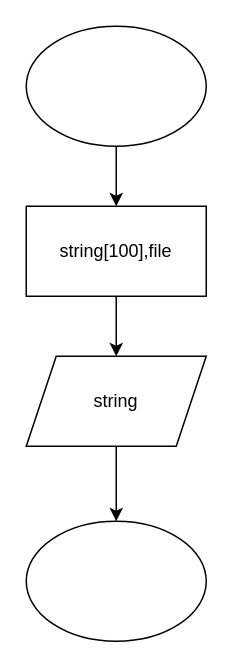
This 233x668 diagram has some shape labels left out. The box of each missing label's shape, as (x1, y1, x2, y2) in pixels:
End: (25, 520, 206, 641)
Start: (25, 25, 206, 146)
